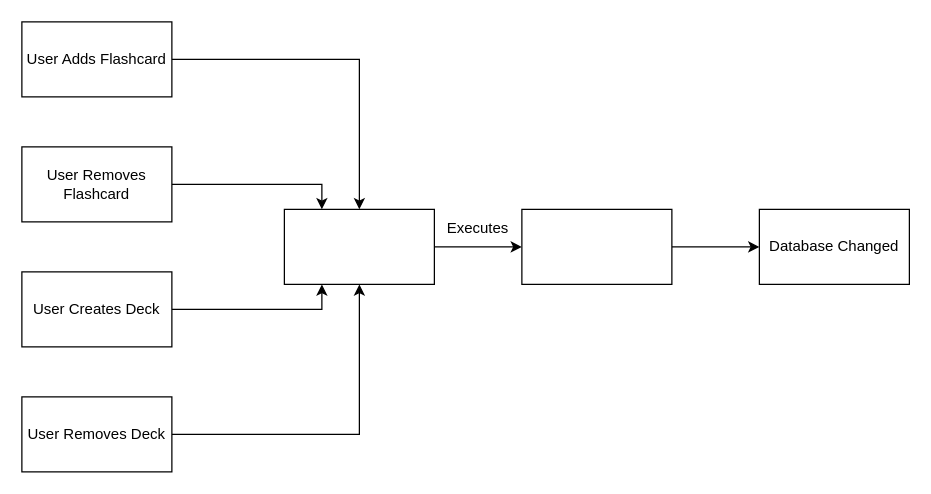
This 931x494 diagram has some shape labels left out. The shapes that lost their labels are listed below. From the top down, each one's centre as x and y in pixels, then its label:
the point at 358,246: Python Scripts
the point at 596,246: SQL Commands
